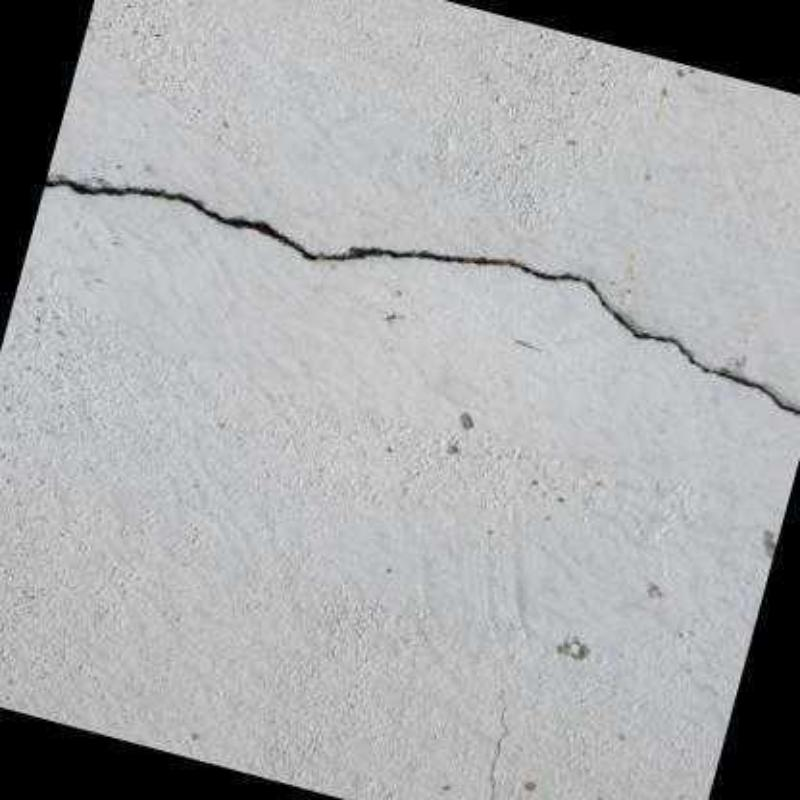pothole: (45, 179, 799, 416)
